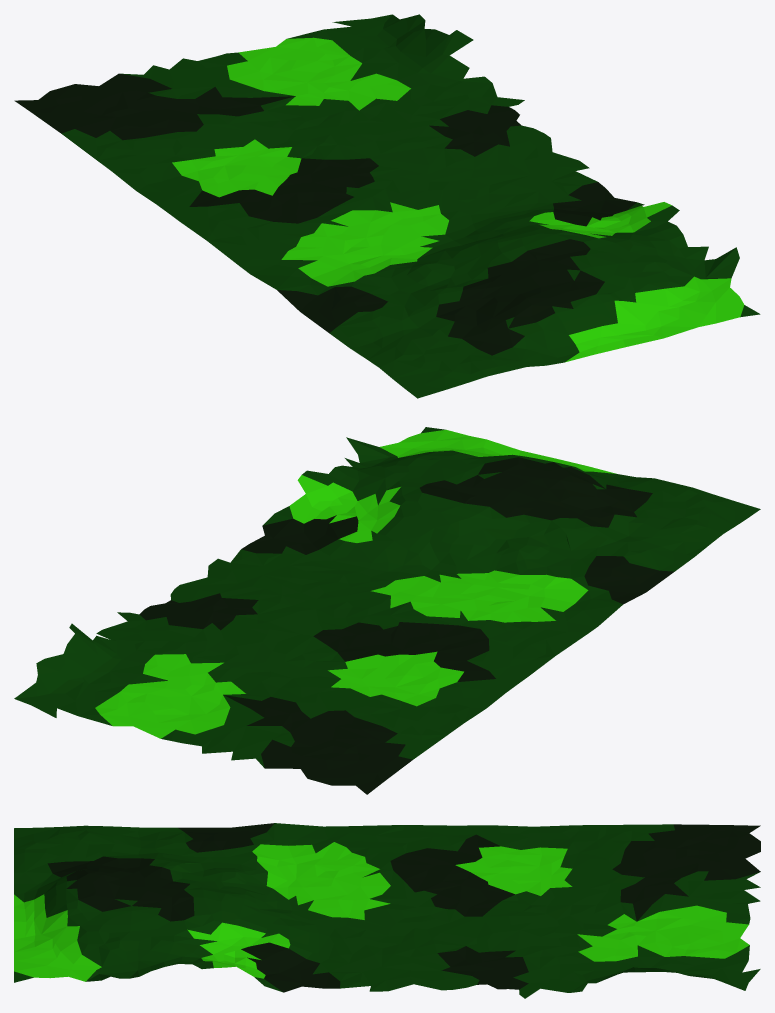
File: terrainOutside.obj
3 views of the same model, one above another, from view 1: azimuth 30°, elevation 25°; view 2: azimuth 150°, elevation 25°; view 3: azimuth 270°, elevation 25° (orthographic). The views are drawn at different scales.
Visible parts, largest first — view 1: 평면.001; view 2: 평면.001; view 3: 평면.001.
Boxes of the visible parts, bbox=[...] form: 평면.001: bbox=[14, 14, 760, 398]; 평면.001: bbox=[14, 427, 760, 794]; 평면.001: bbox=[14, 823, 760, 998].
Bounding box in the file's own units: 242 × 19.5 × 440.
